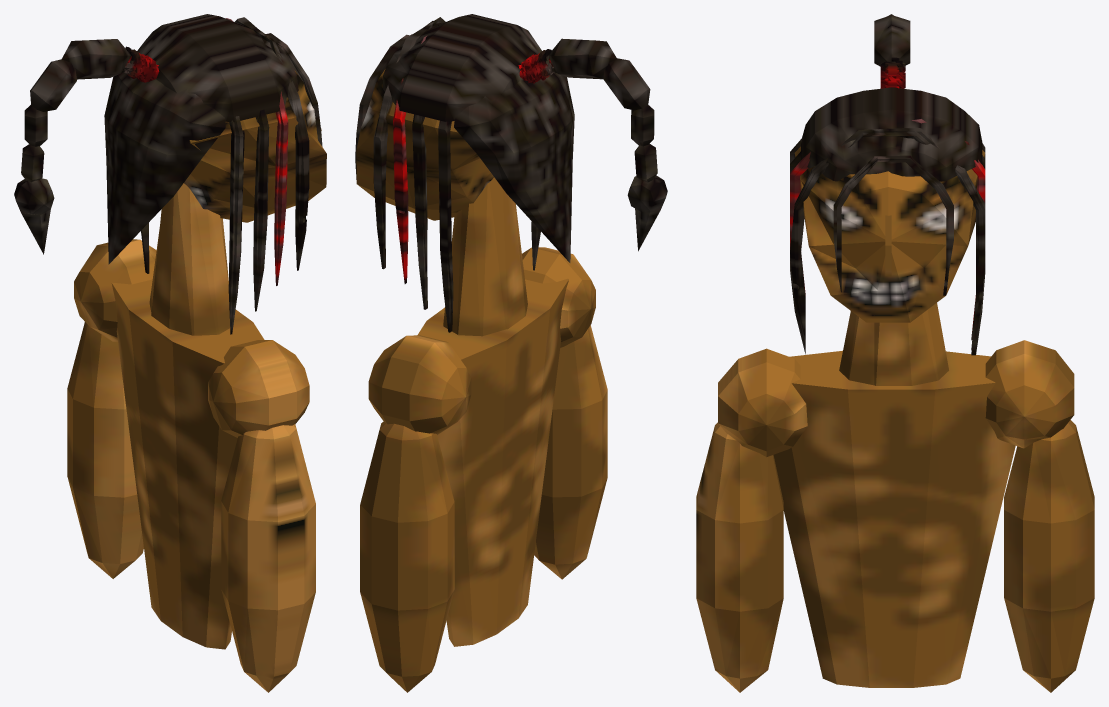
The model's file is Gulibulu.glb.
3 renders of one model, left to right at view 1: azimuth 30°, elevation 25°; view 2: azimuth 150°, elevation 25°; view 3: azimuth 270°, elevation 25°, orthographic.
Parts seen in each view (by area): view 1: Gulibulu; view 2: Gulibulu; view 3: Gulibulu.
Boxes of the visible parts, x1,y1,x2,y2 form: Gulibulu: (14, 14, 326, 692); Gulibulu: (355, 14, 667, 692); Gulibulu: (696, 14, 1094, 692).
Bounding box in the file's own units: 56.27 × 110 × 63.73.
1 material, 1 textured.
